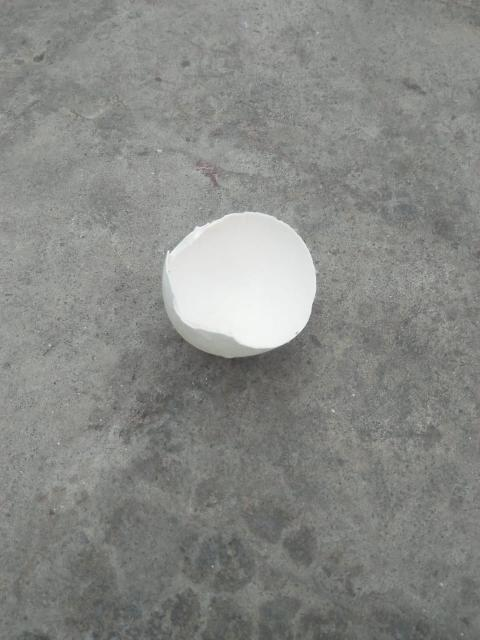Roto: (160, 210, 317, 358)
